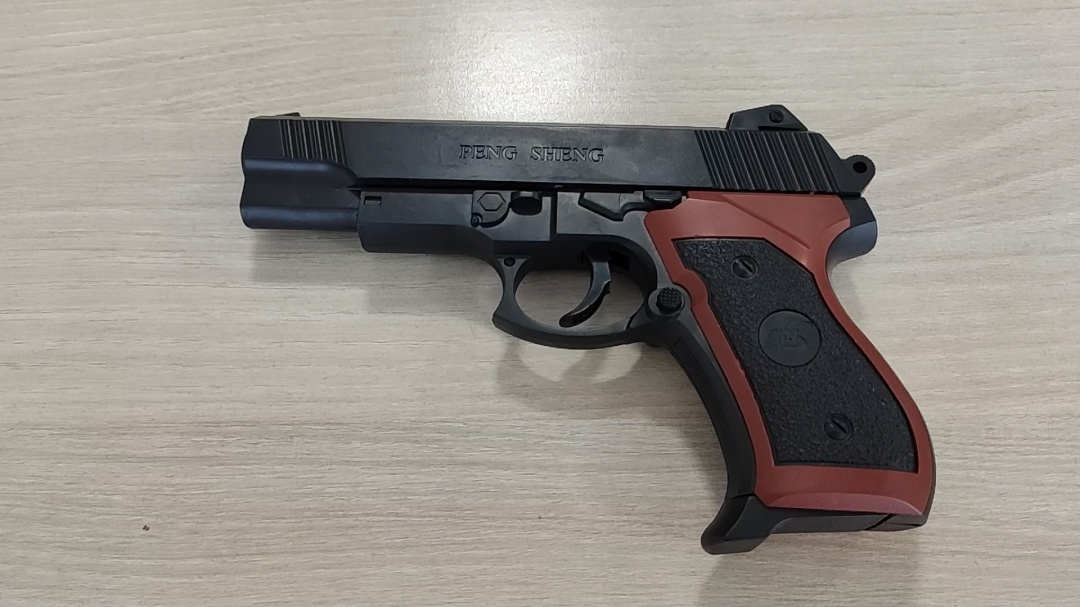gun: (235, 96, 941, 557)
